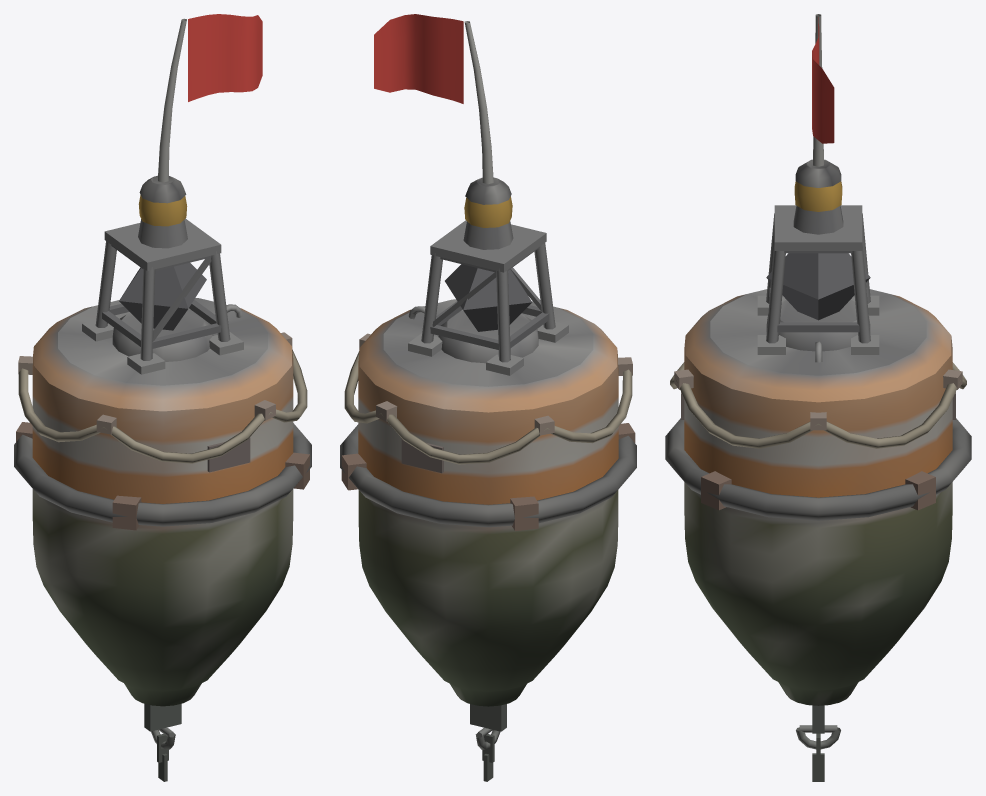
Rendered from buoy.glb.
The picture shows the model from 3 angles, left to right: view 1: azimuth 30°, elevation 25°; view 2: azimuth 150°, elevation 25°; view 3: azimuth 270°, elevation 25°; orthographic projection. The views are drawn at different scales.
Parts seen in each view (by area): view 1: Buoy_Body, Buoy_Ring, Buoy_Flag, Buoy_Pole; view 2: Buoy_Body, Buoy_Ring, Buoy_Flag, Buoy_Pole; view 3: Buoy_Body, Buoy_Ring, Buoy_Pole, Buoy_Flag.
Boxes of the visible parts, x1,y1,x2,y2 form: Buoy_Body: (32,218,293,781); Buoy_Ring: (14,332,311,530); Buoy_Flag: (188,14,262,101); Buoy_Pole: (138,18,187,248); Buoy_Body: (358,220,618,781); Buoy_Ring: (340,333,636,531); Buoy_Flag: (374,14,463,103); Buoy_Pole: (463,21,513,249); Buoy_Body: (681,205,955,781); Buoy_Ring: (665,362,971,520); Buoy_Pole: (793,14,843,234); Buoy_Flag: (812,17,834,143).
Size of the model in its own units: 1.42 by 3.9 by 1.39.
